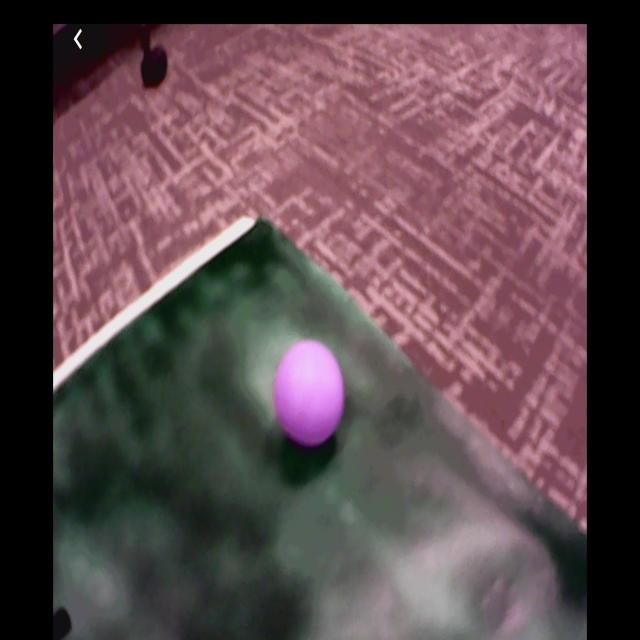ball: (276, 342, 348, 446)
